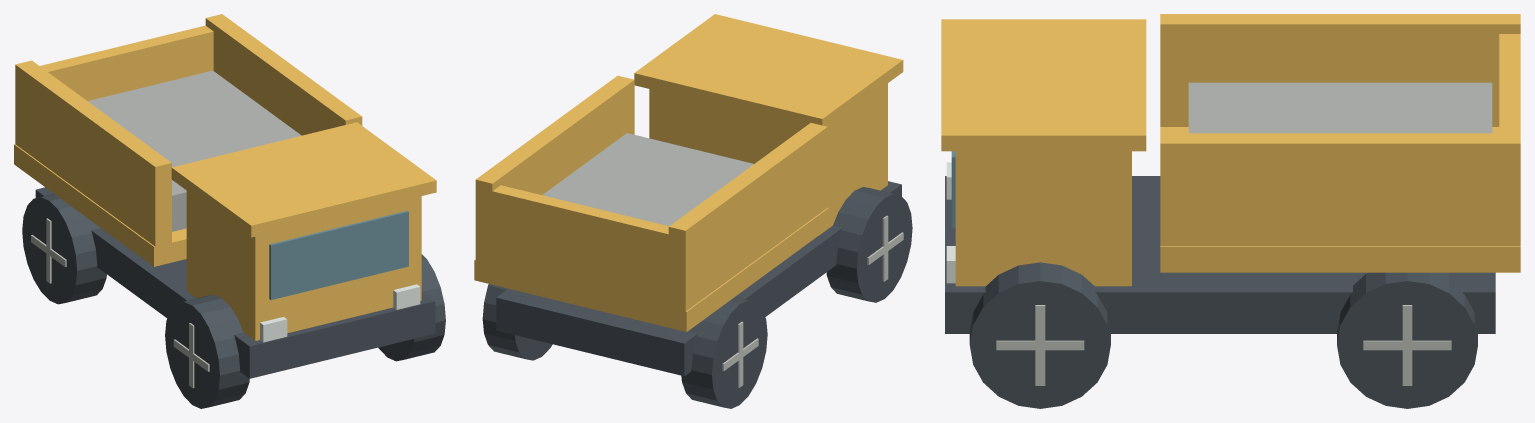
File: truck.gltf
The picture shows the model from 3 angles, left to right: view 1: azimuth 30°, elevation 25°; view 2: azimuth 150°, elevation 25°; view 3: azimuth 270°, elevation 25°; orthographic projection. The views are drawn at different scales.
Visible parts, largest first — view 1: side (×2), roof, cab, ore, chassis, windscreen, tail, wheel-2.052.55, wheel-2.05-2.65, bed, wheel2.052.55, light (×2); view 2: side (×2), roof, tail, chassis, cab, ore, bed, wheel-2.052.55, wheel-2.05-2.65, wheel2.05-2.65, spoke; view 3: side (×2), roof, cab, chassis, ore, wheel2.052.55, wheel2.05-2.65, bed, tail, spoke2 (×2), spoke (×2).
Part boxes in pixels (box(x1,y1,x2,y2)): side (×2): box(15, 14, 362, 255); roof: box(171, 122, 436, 237); cab: box(186, 191, 421, 340); ore: box(88, 70, 301, 231); chassis: box(35, 187, 435, 378); windscreen: box(269, 210, 408, 299); tail: box(40, 25, 213, 100); wheel-2.052.55: box(165, 294, 249, 408); wheel-2.05-2.65: box(22, 194, 106, 304); bed: box(14, 144, 186, 266); wheel2.052.55: box(378, 254, 445, 361); light (×2): box(260, 284, 420, 342); side (×2): box(475, 75, 827, 321); roof: box(634, 14, 903, 126); tail: box(476, 185, 684, 317); chassis: box(496, 181, 901, 376); cab: box(649, 83, 887, 235); ore: box(542, 133, 753, 225); bed: box(474, 207, 828, 331); wheel-2.052.55: box(826, 187, 912, 302); wheel-2.05-2.65: box(681, 296, 767, 408); wheel2.05-2.65: box(482, 284, 552, 360); spoke: box(882, 215, 888, 281); side (×2): box(1160, 14, 1520, 246); roof: box(941, 19, 1146, 151); cab: box(955, 151, 1131, 286); chassis: box(945, 176, 1495, 333); ore: box(1188, 82, 1492, 133); wheel2.052.55: box(969, 262, 1110, 408); wheel2.05-2.65: box(1337, 272, 1477, 408); bed: box(1160, 127, 1520, 272); tail: box(1499, 34, 1520, 133); spoke2 (×2): box(996, 340, 1451, 350); spoke (×2): box(1035, 305, 1412, 385).
Bounding box in the file's own units: 4.81 × 4.07 × 8.2.
